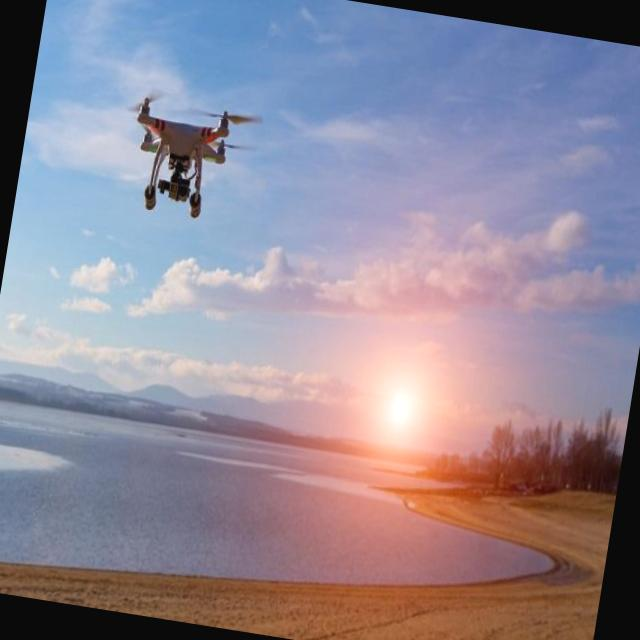drone: (112, 82, 266, 228)
